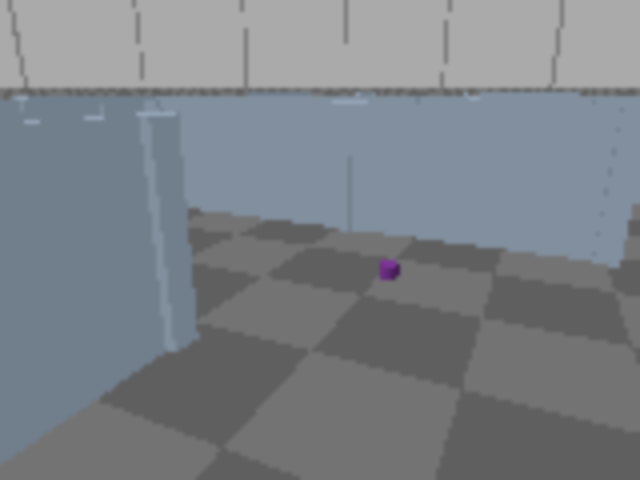puck: (380, 260, 397, 280)
